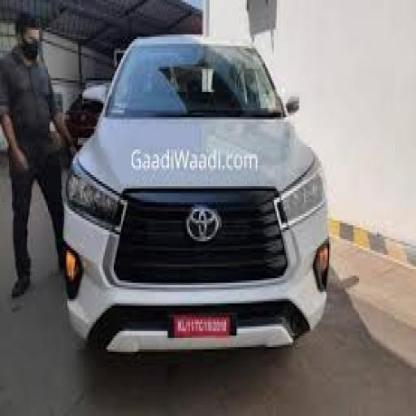car: (55, 25, 334, 363)
person: (0, 10, 78, 306)
